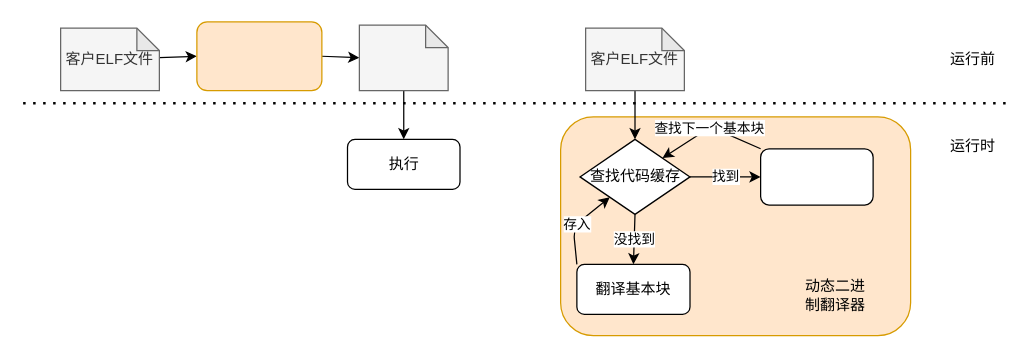
The diagram is 1034 pixels wide and 358 high, and some of its shapes have lost their labels. Here are the shapes that lost their labels. From the top down, the centre of each, then its label:
pixel 259 56: 静态二进制翻译器
pixel 403 57: 预翻译文件
pixel 816 176: 执行基本块
